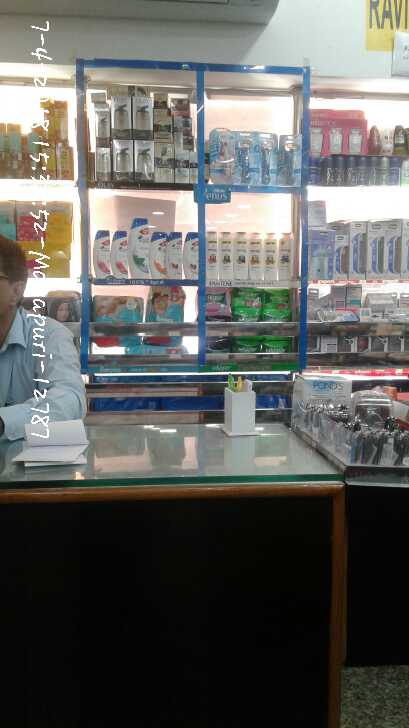venus: (209, 127, 235, 185), (235, 131, 258, 185), (279, 134, 302, 185), (258, 131, 279, 185)
